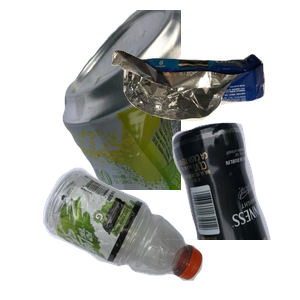glass: (106, 120, 300, 300)
metal: (60, 10, 300, 190)
plastic: (40, 165, 235, 300)
trash: (109, 47, 300, 160)
